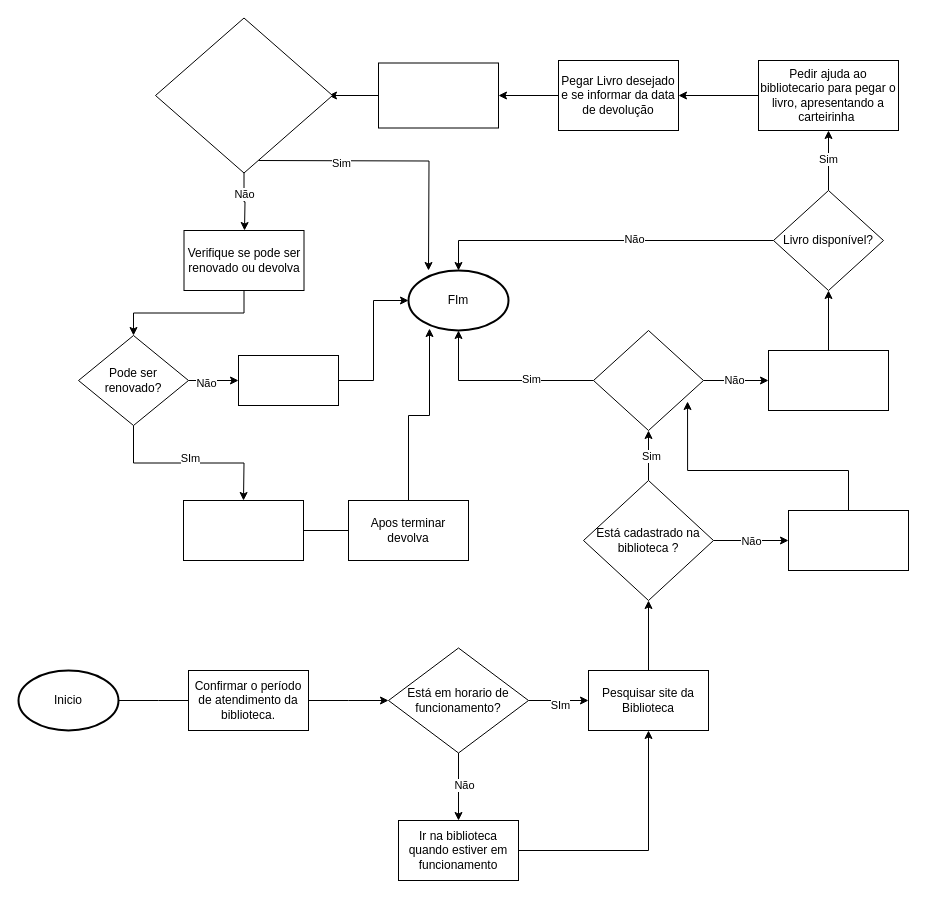
The diagram is 926 pixels wide and 898 high, and some of its shapes have lost their labels. The shapes that lost their labels are listed below. From the top down, each one's box as (x1, y1, x2, y2) in pixels, then its label:
(154, 17, 332, 173): A leitura foi concluída pelo usuário até a data prevista.
(378, 62, 498, 128): se organizar para realizar a leitura do livro
(238, 354, 338, 406): Devolva a biblioteca
(592, 330, 704, 430): Pendencias
(768, 350, 888, 410): Localizar Livro
(182, 500, 304, 560): Renove e continue a leitura
(788, 510, 908, 570): Levar documentos necessários para cadastro
